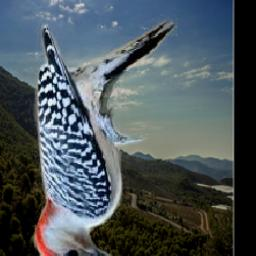Woodpecker: (20, 2, 186, 256)
